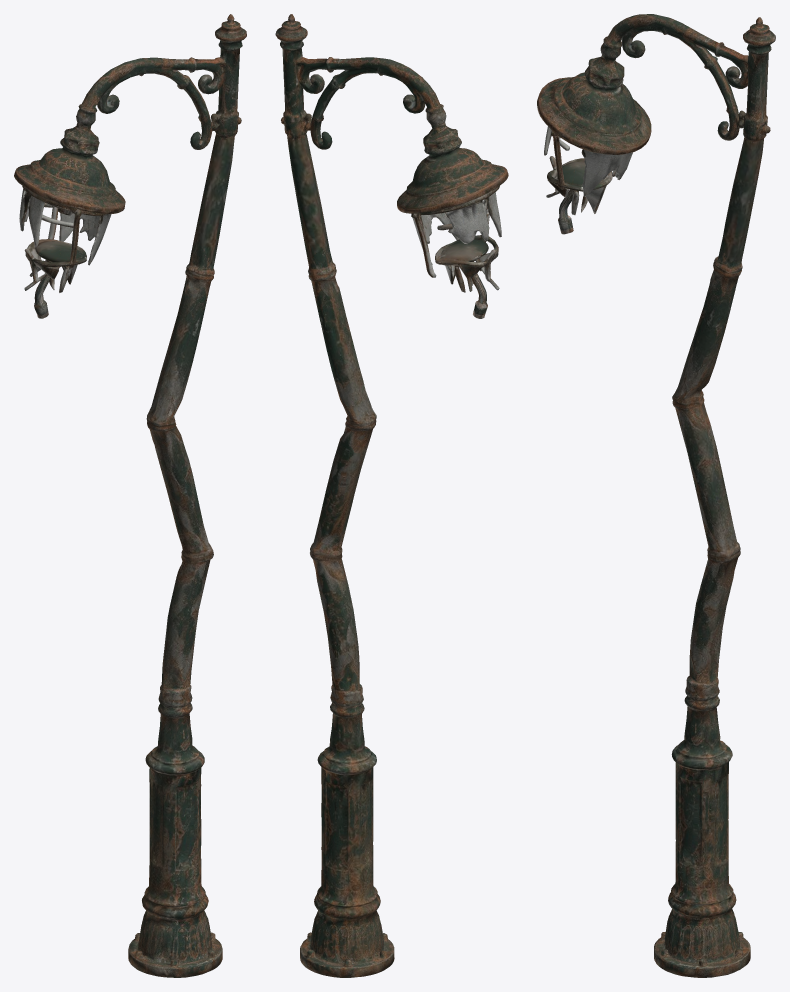
The model's file is street_lamp.glb.
The picture shows the model from 3 angles, left to right: view 1: azimuth 30°, elevation 25°; view 2: azimuth 150°, elevation 25°; view 3: azimuth 330°, elevation 25°; orthographic projection. The views are drawn at different scales.
Bounding box in the file's own units: 0.4769 × 1.9 × 0.2119.
Materials: 1 (1 with a texture image).
